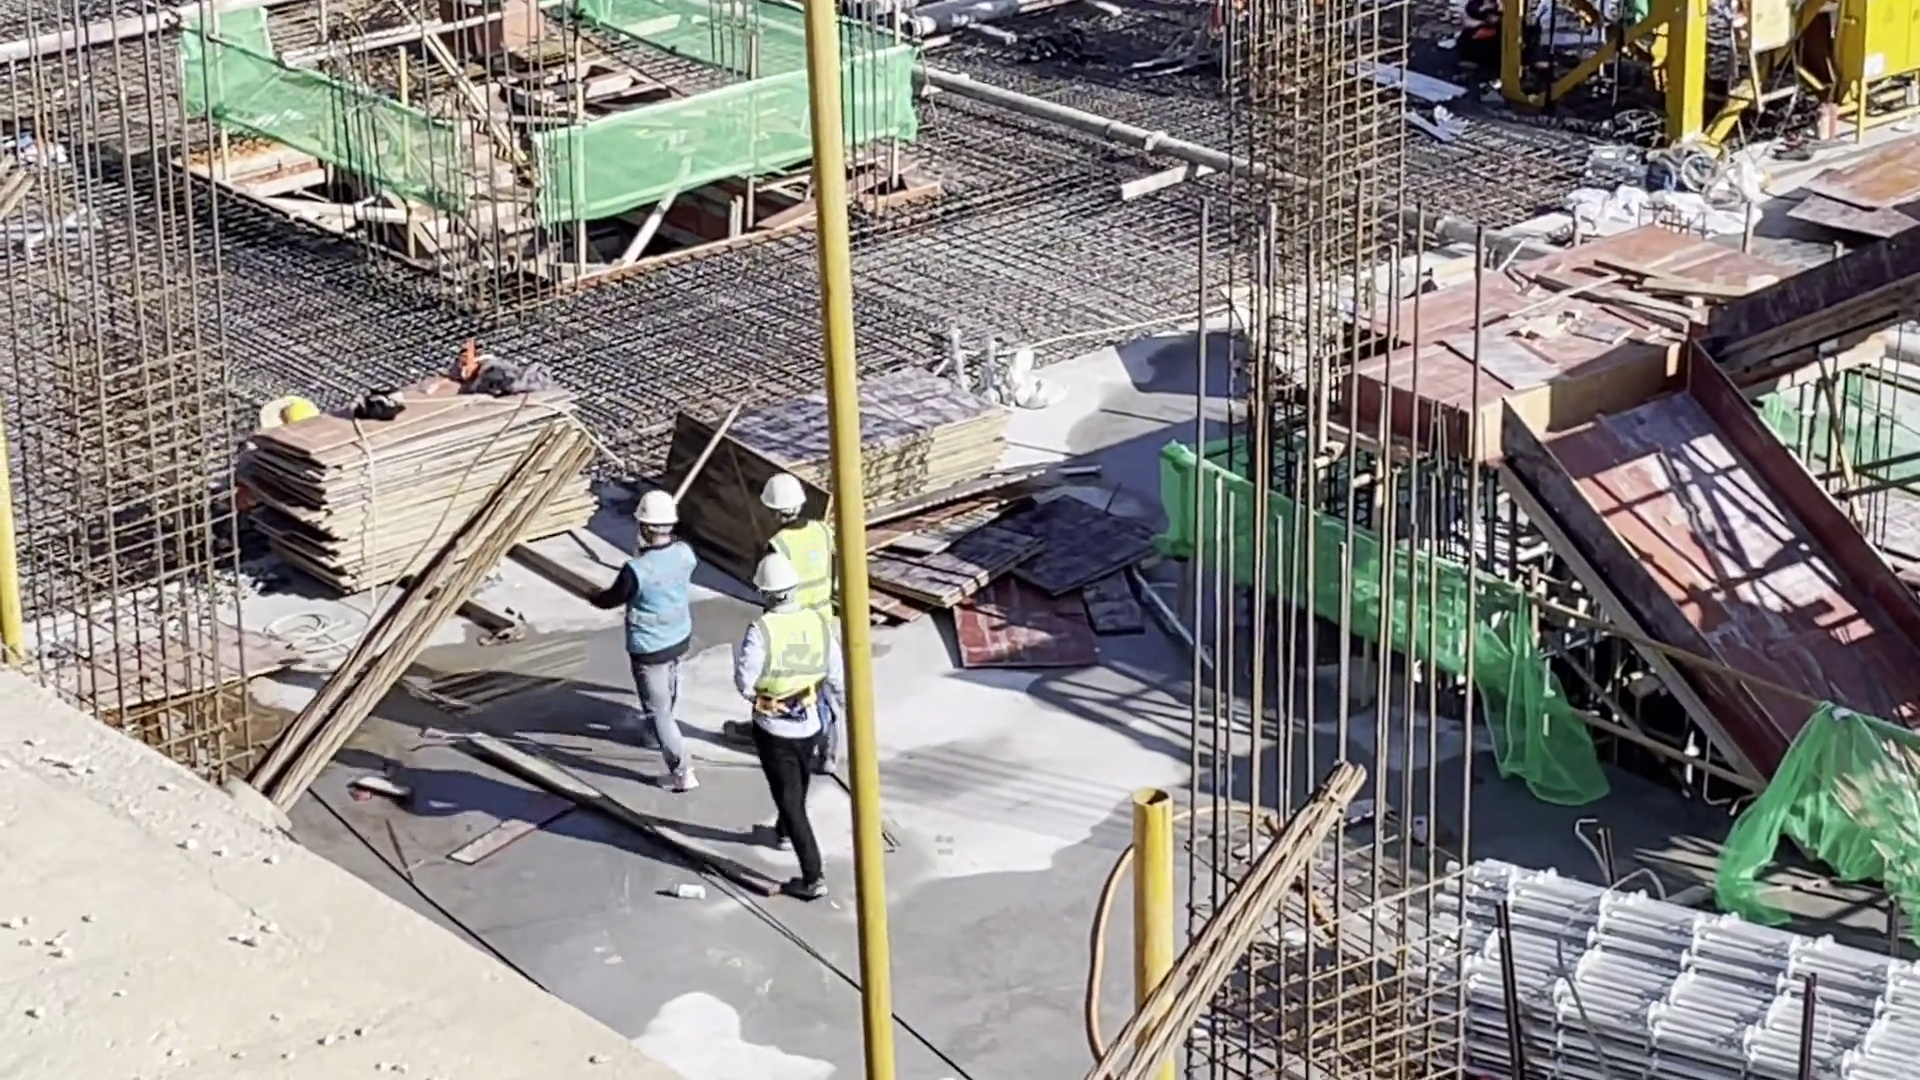board: (249, 354, 590, 590), (1410, 292, 1671, 464), (714, 361, 1007, 514)
ebox: (1825, 1, 1919, 139)
helmet: (752, 552, 797, 590), (762, 474, 805, 509), (634, 491, 677, 524)
person: (734, 551, 845, 902), (589, 489, 701, 793), (755, 471, 842, 621)
scaffold: (1471, 860, 1920, 1080)
vest: (626, 541, 693, 657), (755, 605, 830, 696), (771, 517, 831, 603)
